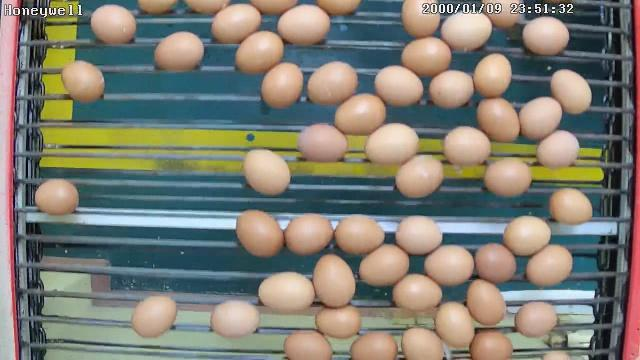egg: (362, 120, 420, 167), (258, 270, 316, 316), (241, 146, 291, 196), (393, 152, 445, 200), (276, 3, 331, 48), (235, 210, 284, 260), (306, 60, 358, 107), (357, 242, 410, 288), (152, 28, 205, 74), (313, 253, 356, 309), (422, 242, 474, 288), (333, 92, 387, 136), (234, 29, 284, 76), (476, 93, 522, 144), (400, 35, 452, 80), (438, 9, 492, 52), (295, 121, 349, 164), (284, 212, 334, 258), (332, 214, 386, 256), (524, 243, 574, 288), (394, 214, 444, 258), (130, 294, 180, 338), (482, 156, 532, 200), (260, 61, 304, 111), (88, 3, 138, 47), (373, 66, 425, 108), (209, 3, 262, 44), (520, 14, 570, 57), (390, 273, 442, 314), (502, 214, 552, 256), (466, 278, 508, 328), (210, 300, 260, 342), (442, 124, 492, 166), (550, 67, 592, 116), (472, 242, 518, 286), (60, 60, 106, 104), (433, 300, 475, 348), (518, 96, 562, 140), (534, 129, 580, 171), (548, 187, 595, 228), (427, 69, 475, 109), (33, 178, 80, 218), (472, 52, 512, 99), (514, 300, 560, 340), (314, 302, 362, 340), (401, 325, 446, 360), (400, 0, 440, 38)
